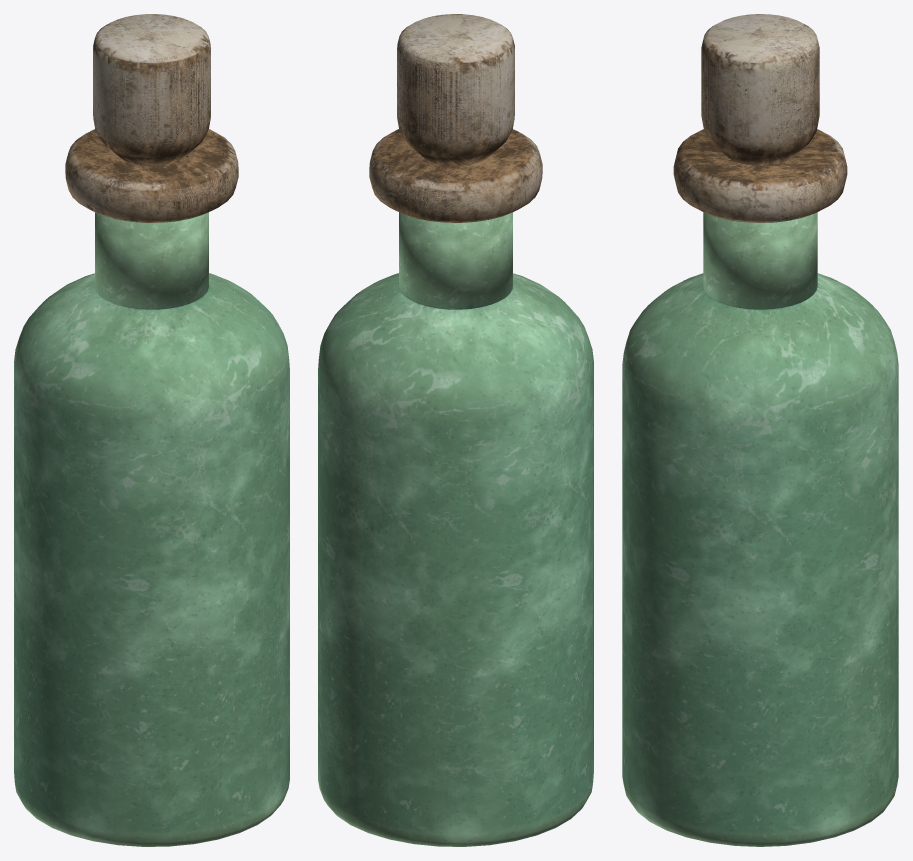
The model's file is fiolka1.glb.
3 renders of one model, left to right at view 1: azimuth 30°, elevation 25°; view 2: azimuth 150°, elevation 25°; view 3: azimuth 270°, elevation 25°, orthographic.
Parts seen in each view (by area): view 1: Cylinder.243; view 2: Cylinder.243; view 3: Cylinder.243.
Boxes of the visible parts, x1,y1,x2,y2 form: Cylinder.243: [14, 14, 289, 846]; Cylinder.243: [318, 14, 593, 846]; Cylinder.243: [622, 14, 898, 846].
Bounding box in the file's own units: 0.0503 × 0.1519 × 0.0503.
1 material, 1 textured.
